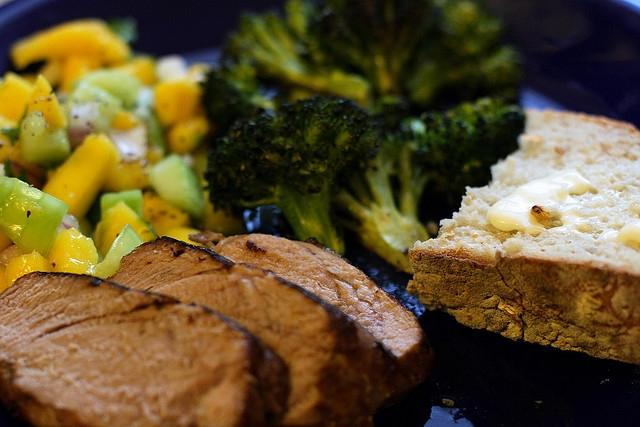broccoli: (199, 2, 526, 143), (204, 94, 386, 255), (328, 95, 464, 274)
